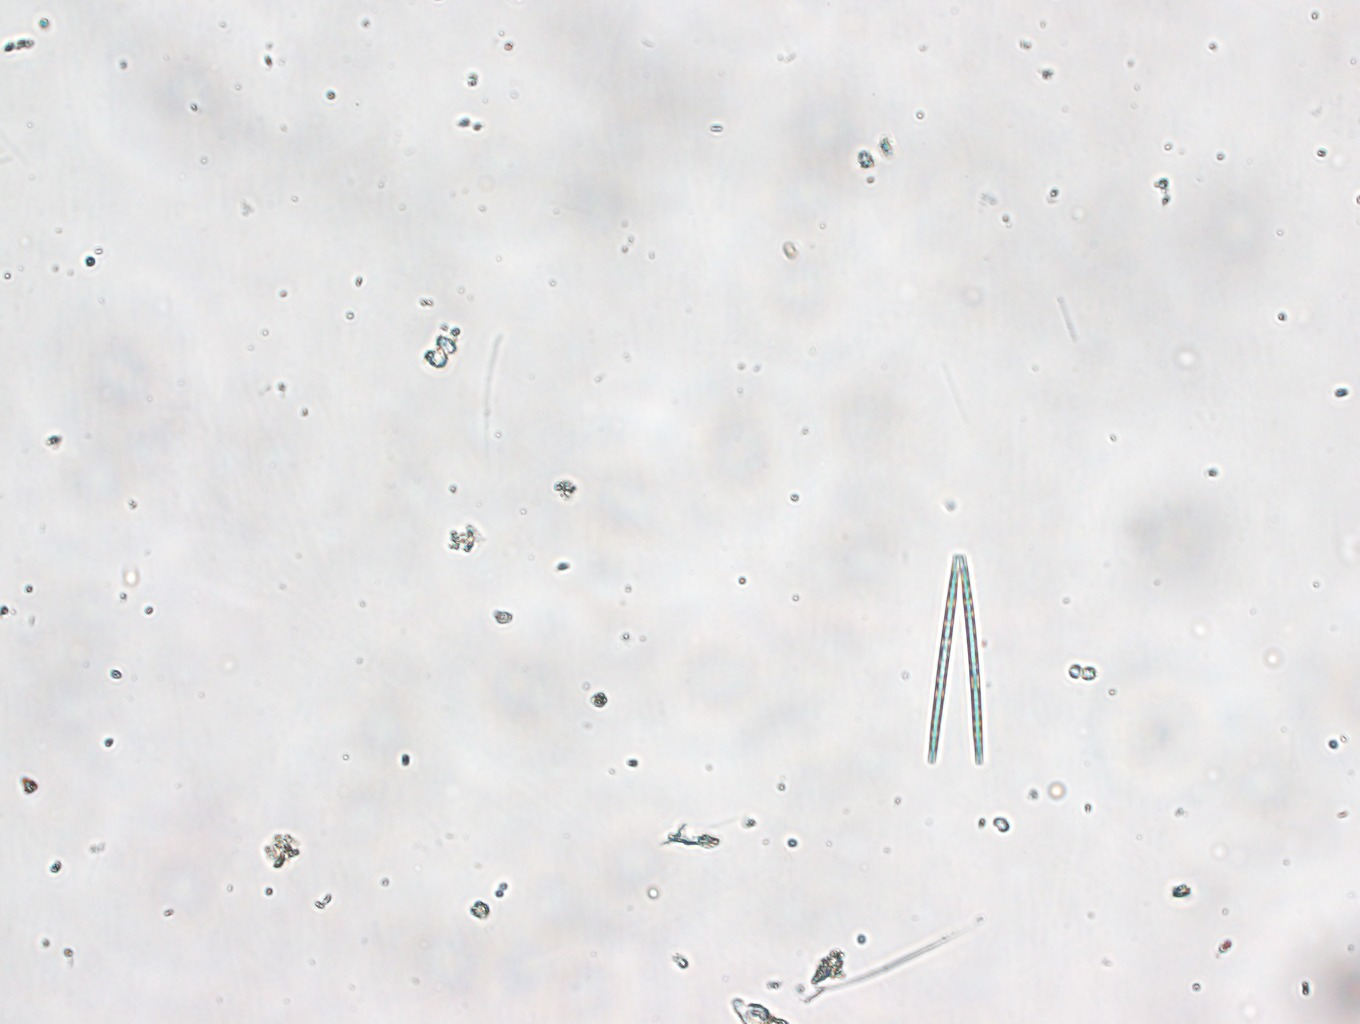thalassionema frauenfeldii: (910, 536, 1004, 787)
